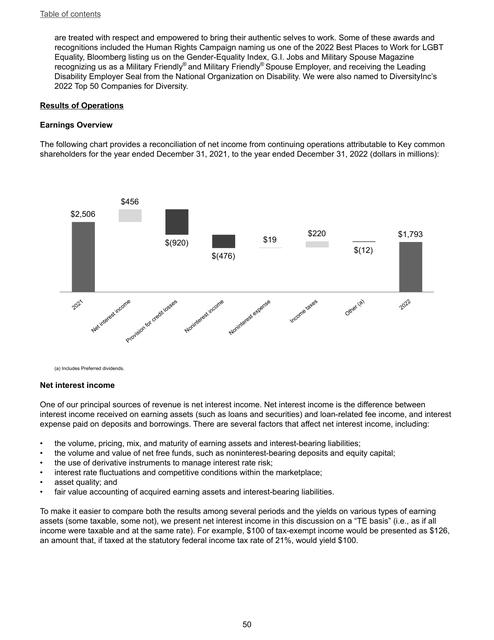box: (61, 193, 433, 347)
